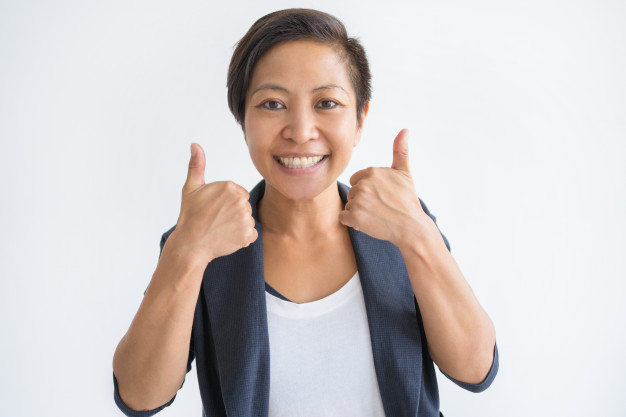thumbsup: (188, 142, 259, 246), (338, 128, 410, 226)
